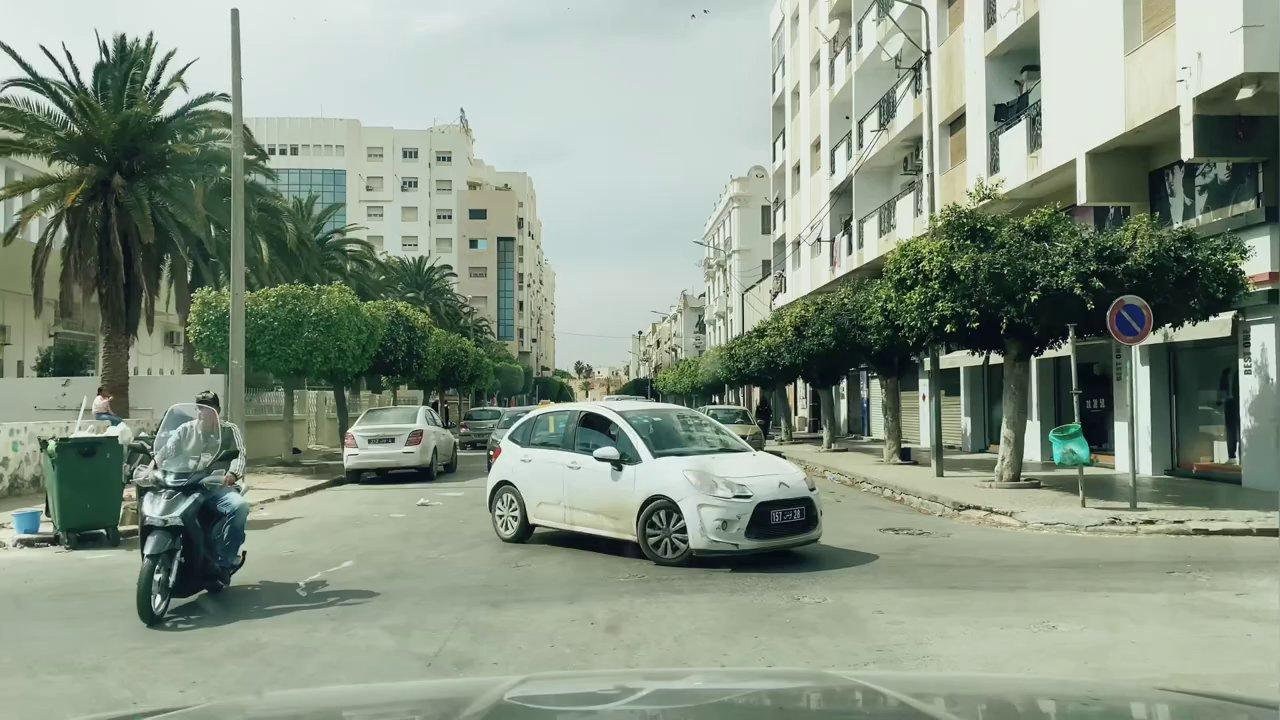no parking: (1104, 293, 1155, 349)
